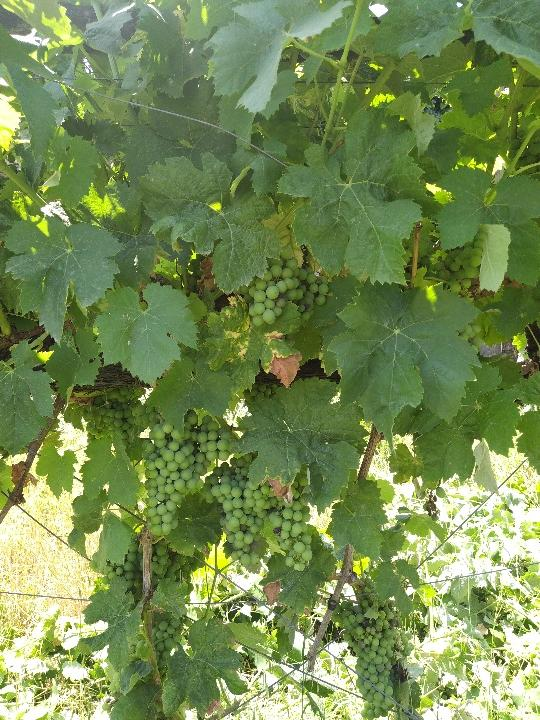grape: (130, 404, 234, 537), (328, 592, 402, 720), (203, 449, 279, 567), (237, 243, 330, 328), (267, 469, 314, 573)
